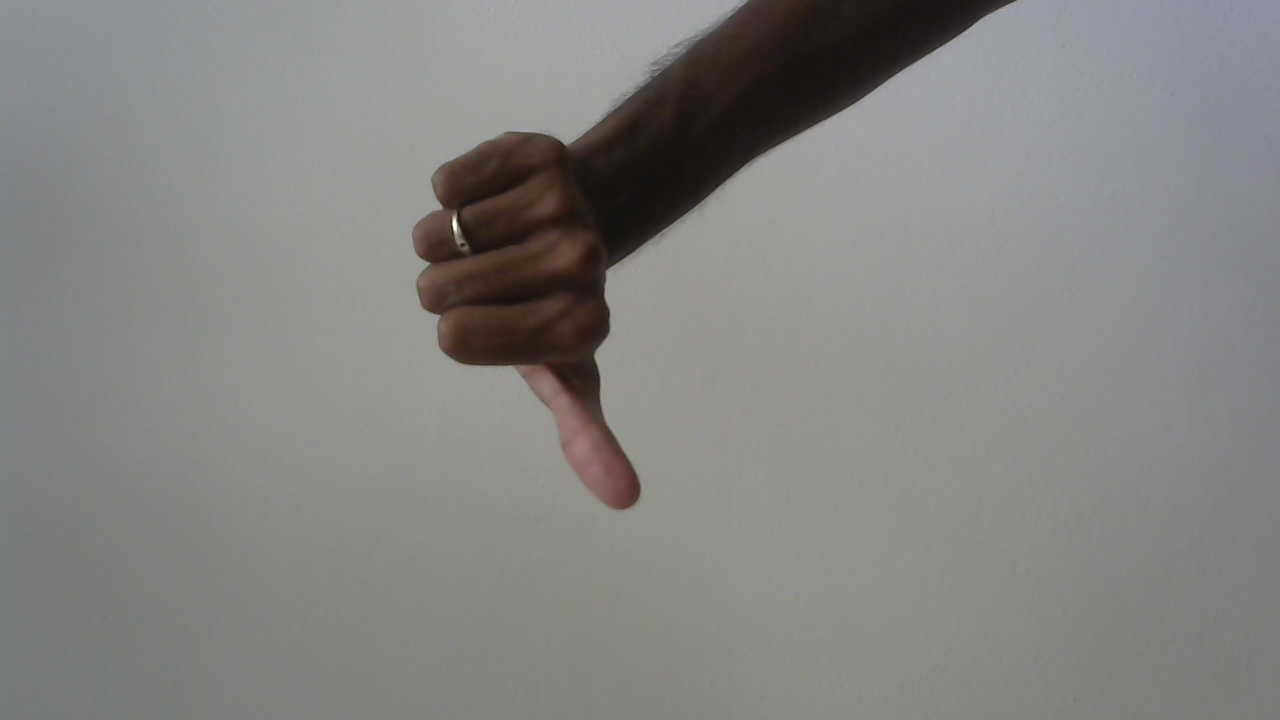thumbsdown: (403, 112, 690, 523)
